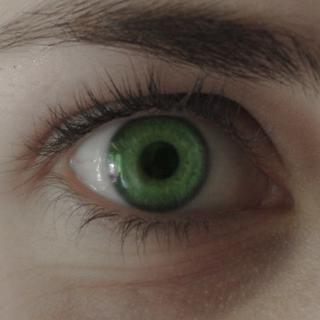pupil: (141, 142, 177, 179)
